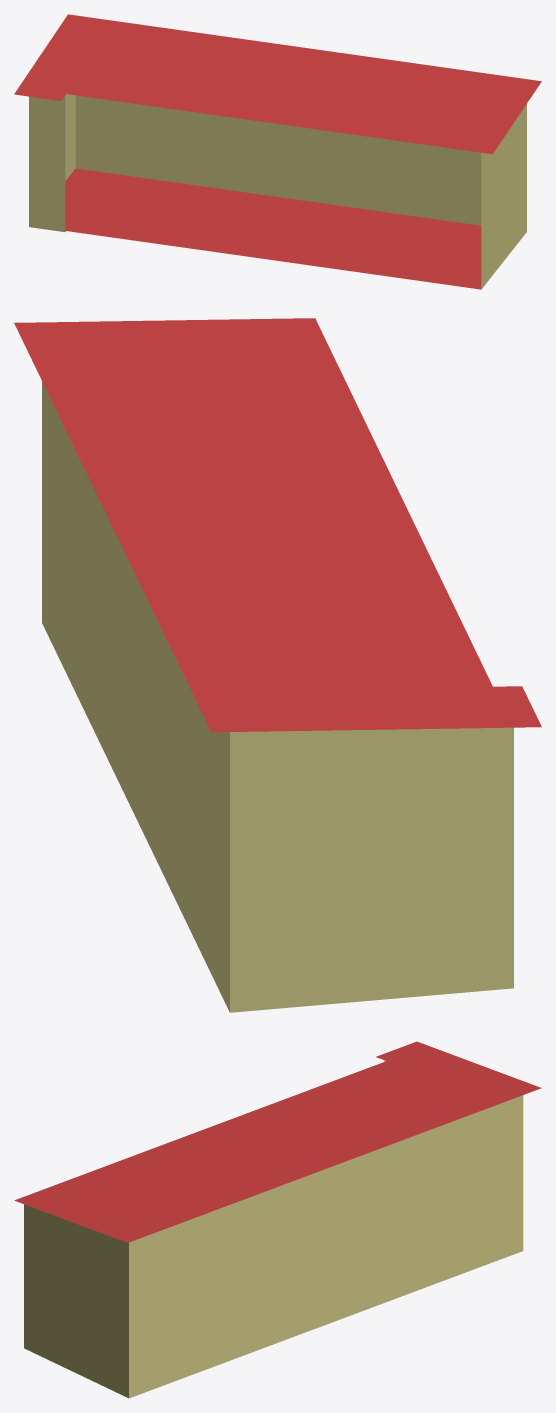
The picture shows the model from 3 angles, top to bottom: view 1: azimuth 30°, elevation 25°; view 2: azimuth 150°, elevation 25°; view 3: azimuth 270°, elevation 25°; orthographic projection. The views are drawn at different scales.
Visible parts, largest first — view 1: group_5, group_3, group_6, group_4; view 2: group_3, group_5, group_4; view 3: group_5, group_3, group_4.
Part boxes in pixels (x1,y1,x2,y2): group_5: (29,94,526,289); group_3: (14,14,541,154); group_6: (65,168,481,289); group_4: (71,15,536,84); group_3: (14,318,541,732); group_5: (42,381,513,1012); group_4: (17,326,226,731); group_5: (24,1060,523,1398); group_3: (14,1041,541,1242); group_4: (129,1088,538,1241).
Bounding box in the file's own units: 28.73 × 29.87 × 10.2.
